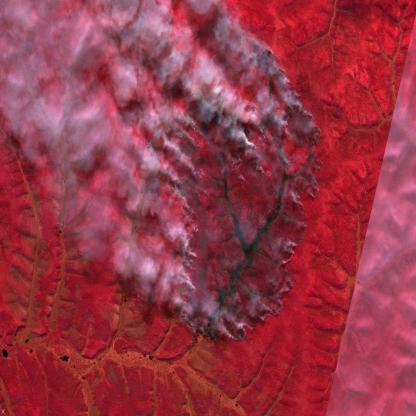fire: (168, 32, 328, 356)
